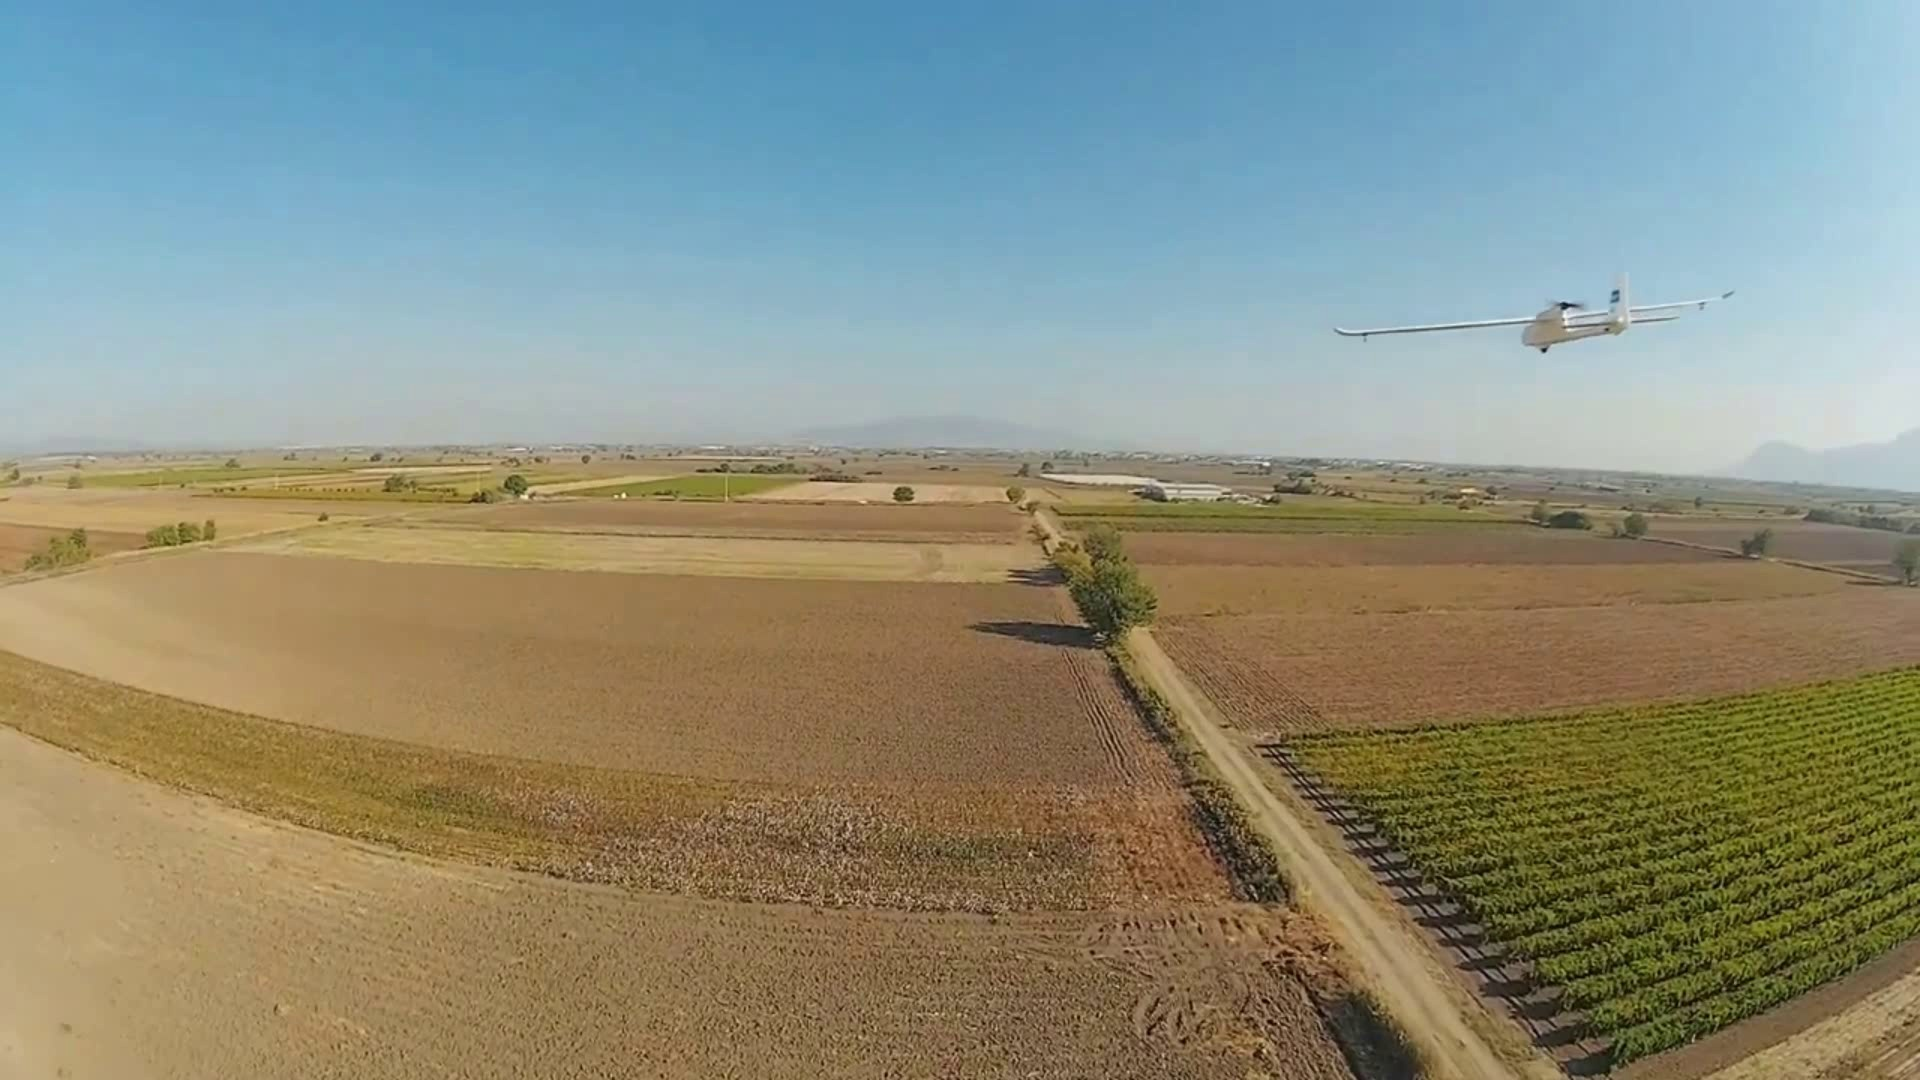airplane: (1331, 278, 1735, 353)
